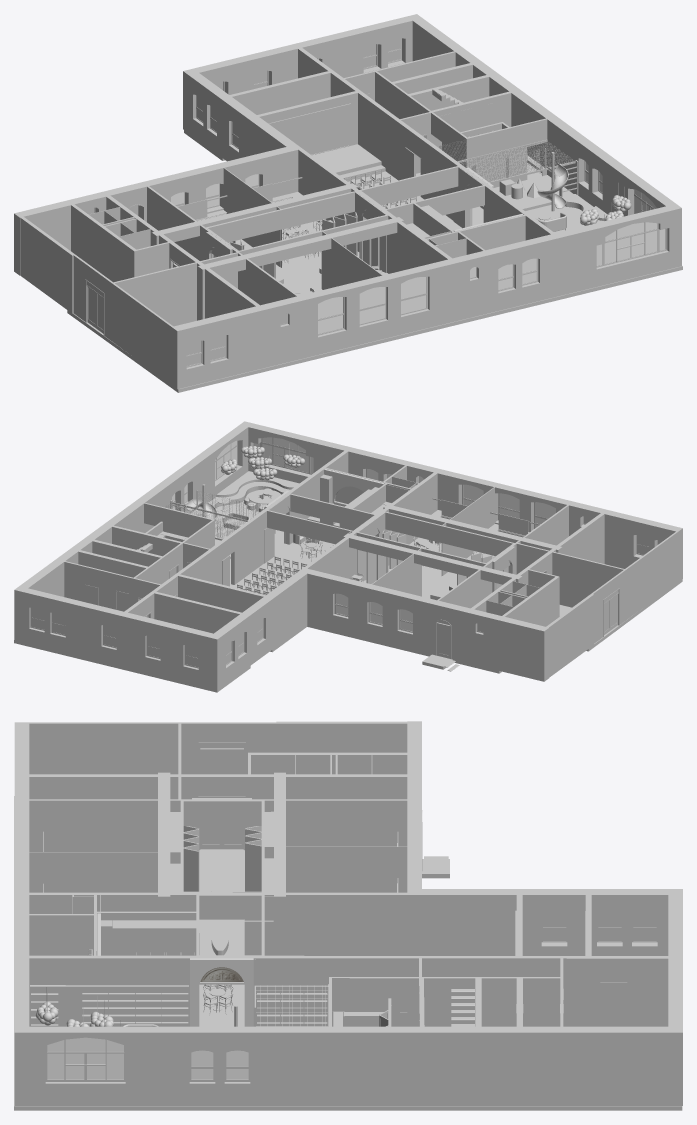
File: room.glb
3 renders of one model, top to bottom at view 1: azimuth 30°, elevation 25°; view 2: azimuth 150°, elevation 25°; view 3: azimuth 270°, elevation 25°, orthographic. The views are drawn at different scales.
Visible parts, largest first — view 1: 0 011, 113 011; view 2: 0 011, 113 011, Cube; view 3: 0 011, 113 011, Cube.
Part boxes in pixels (x1,y1,x2,y2): 0 011: (14, 14, 682, 392); 113 011: (171, 162, 665, 333); 0 011: (14, 421, 682, 692); 113 011: (172, 437, 555, 631); Cube: (265, 468, 384, 543); 0 011: (14, 721, 682, 1110); 113 011: (47, 1037, 248, 1079); Cube: (97, 913, 253, 1026).
Size of the model in its own units: 30.13 by 4.77 by 27.32.
3 materials, 1 textured.
